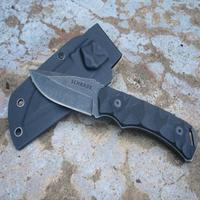knife: (23, 65, 194, 158)
